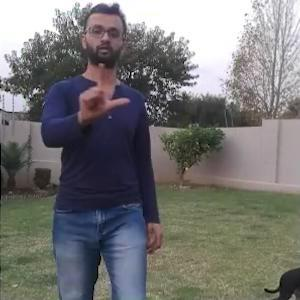land_hand: (70, 57, 136, 123)
